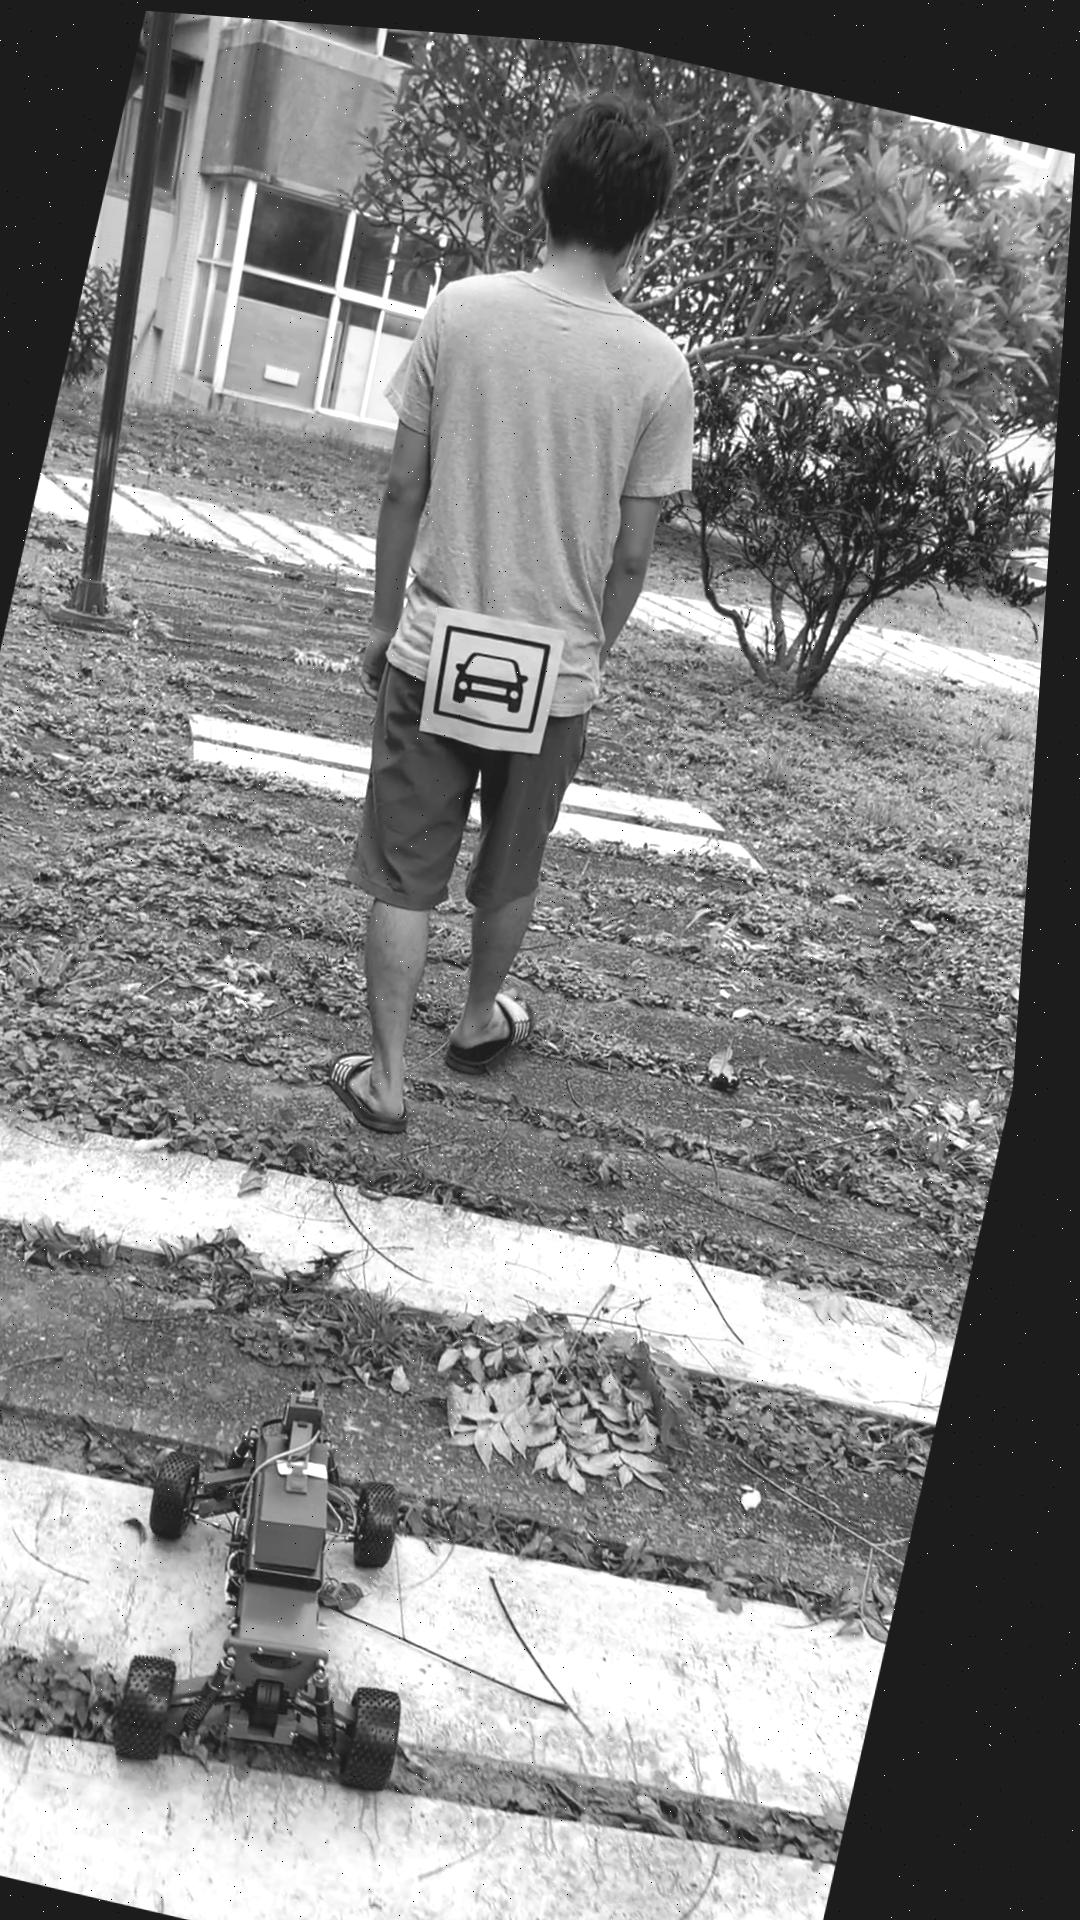car_img: (435, 612, 562, 729)
